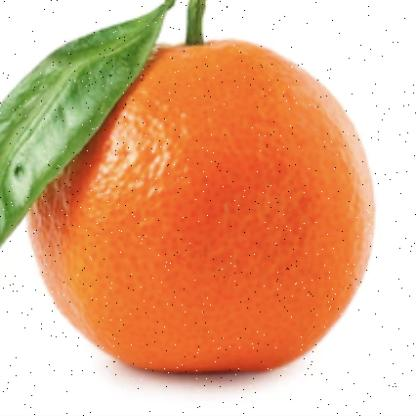fresh: (32, 39, 374, 377)
